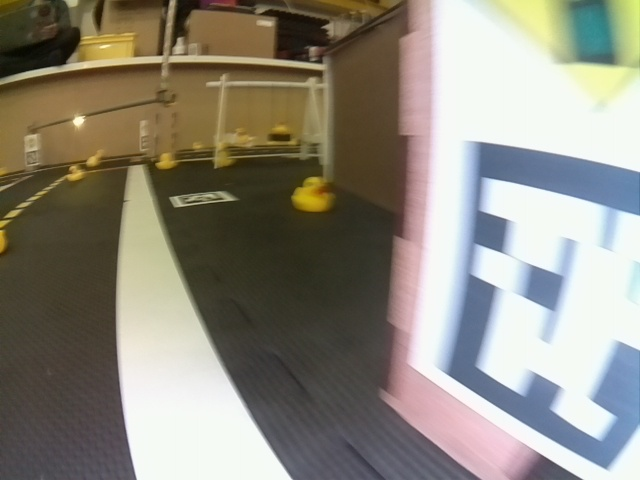Duckie: (292, 176, 331, 208), (214, 148, 234, 165), (157, 152, 176, 168), (66, 165, 83, 182)
QR code: (419, 138, 640, 474), (169, 190, 235, 208), (26, 152, 39, 166)
